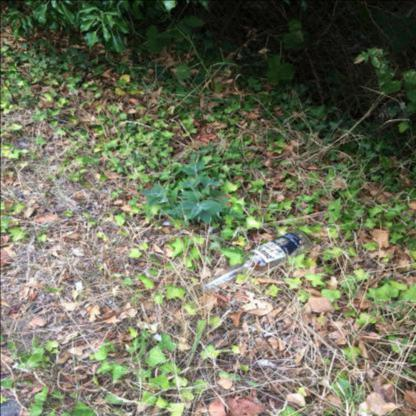Bottle cap: (198, 229, 314, 294)
Plastic bag - wrapper: (161, 220, 171, 225)
